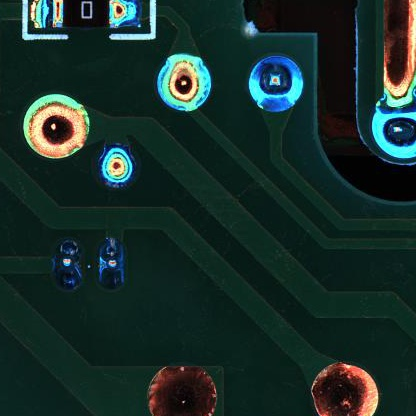spot: (23, 93, 90, 160), (307, 362, 381, 416), (146, 365, 221, 416), (154, 52, 214, 113), (246, 54, 305, 114), (98, 147, 137, 187)
